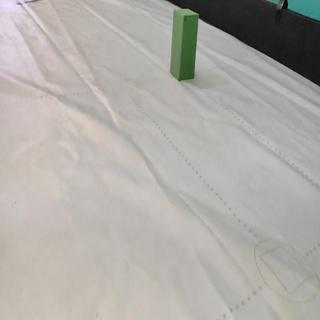greenbox: (169, 7, 199, 82)
